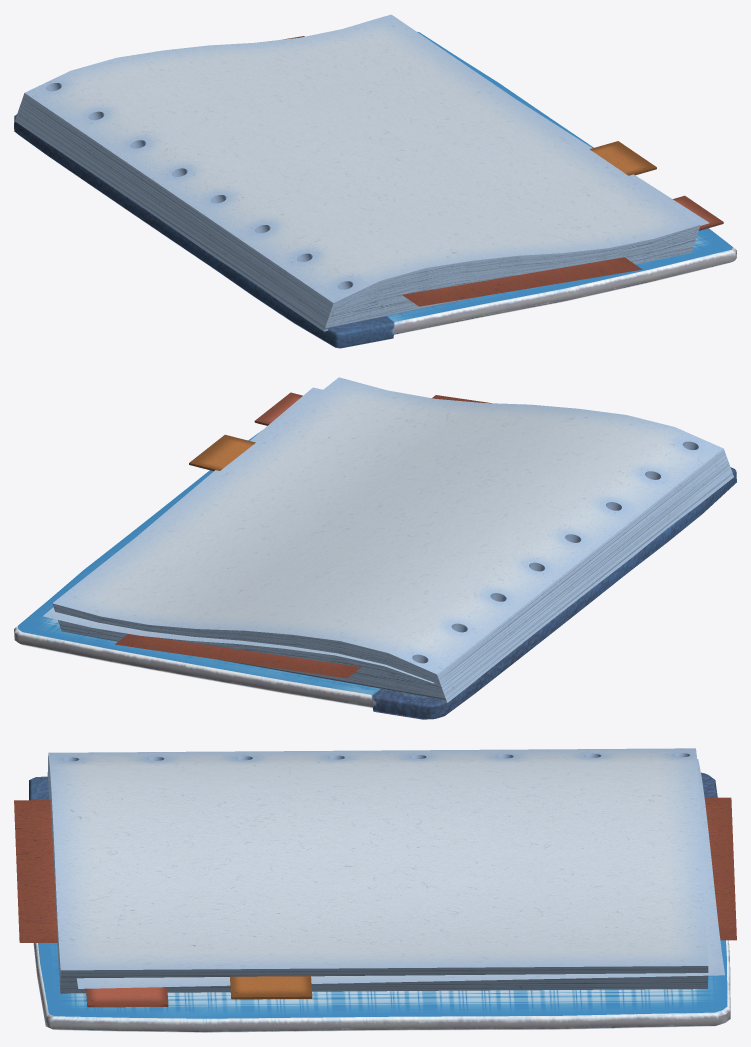
Rendered from RecipeBook_Front.fbx.
3 renders of one model, top to bottom at view 1: azimuth 30°, elevation 25°; view 2: azimuth 150°, elevation 25°; view 3: azimuth 270°, elevation 25°, orthographic. The views are drawn at different scales.
Parts seen in each view (by area): view 1: RecipeBook_Front; view 2: RecipeBook_Front; view 3: RecipeBook_Front.
Boxes of the visible parts, <box> form: RecipeBook_Front: <box>14,14,736,348</box>; RecipeBook_Front: <box>14,377,736,719</box>; RecipeBook_Front: <box>14,748,736,1032</box>.
Size of the model in its own units: 3.73 by 0.5844 by 4.93.
